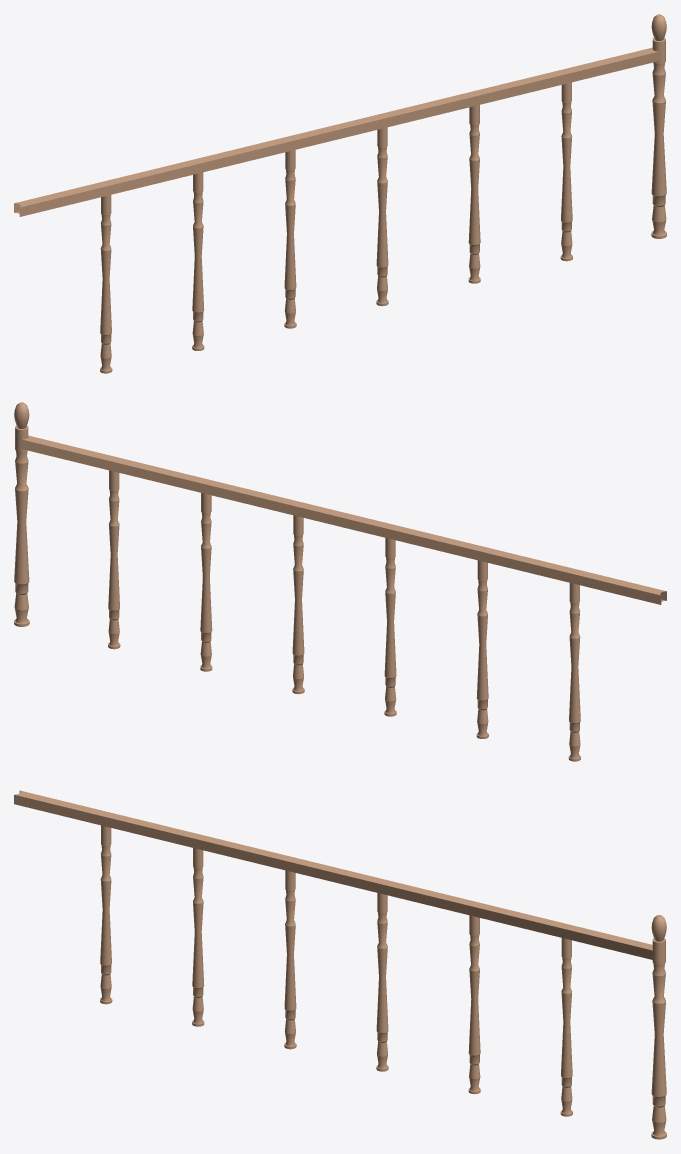
File: Muretto_2_LV_2.fbx
The picture shows the model from 3 angles, top to bottom: view 1: azimuth 30°, elevation 25°; view 2: azimuth 150°, elevation 25°; view 3: azimuth 330°, elevation 25°; orthographic projection.
Visible parts, largest first — view 1: Cylinder.050; view 2: Cylinder.050; view 3: Cylinder.050.
Part boxes in pixels (x1,y1,x2,y2): Cylinder.050: [14, 14, 666, 373]; Cylinder.050: [14, 402, 666, 761]; Cylinder.050: [14, 790, 666, 1139].
Size of the model in its own units: 282 by 91.52 by 5.85.
